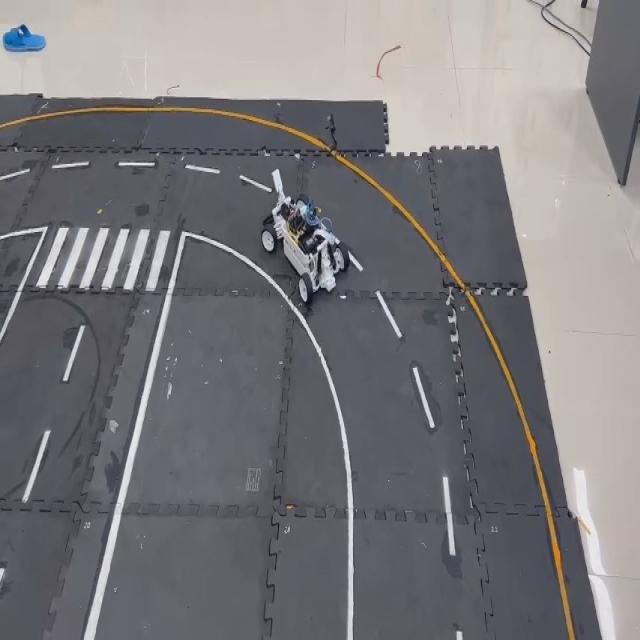SiCo-CAR: (260, 167, 350, 304)
